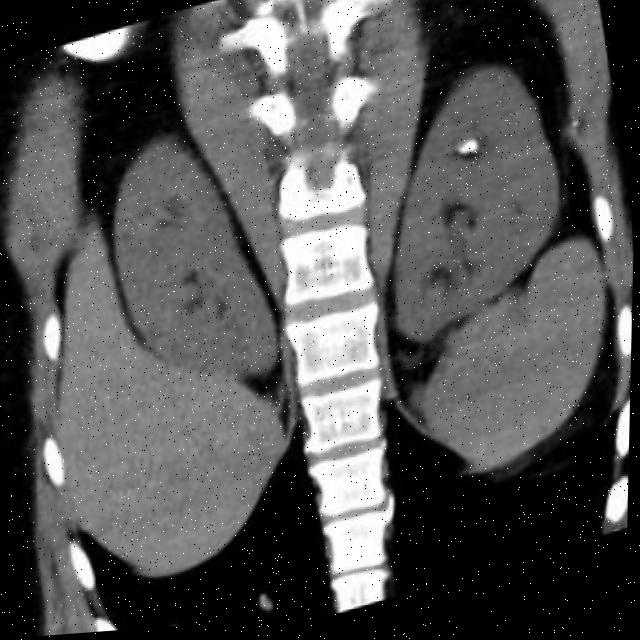Tas_Var: (455, 143, 482, 168)
